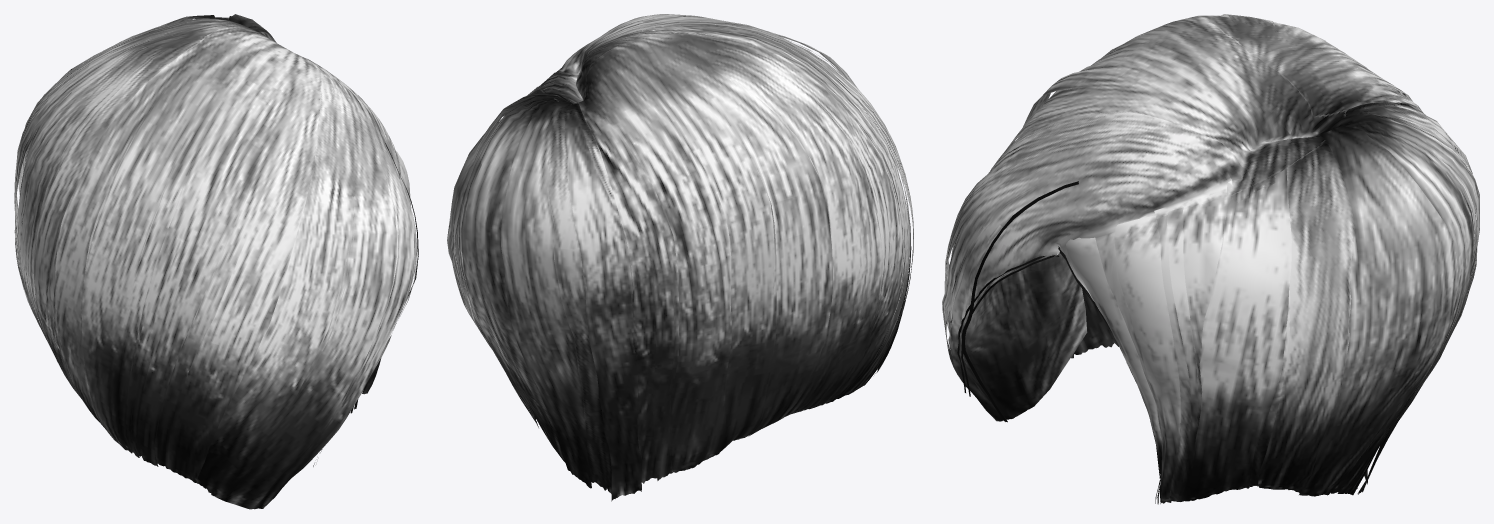
Rendered from hair-female.glb.
The picture shows the model from 3 angles, left to right: view 1: azimuth 30°, elevation 25°; view 2: azimuth 150°, elevation 25°; view 3: azimuth 270°, elevation 25°; orthographic projection. The views are drawn at different scales.
Parts seen in each view (by area): view 1: hair; view 2: hair; view 3: hair.
Boxes of the visible parts, x1,y1,x2,y2 form: hair: (14, 14, 418, 509); hair: (447, 14, 913, 501); hair: (942, 14, 1479, 504).
Bounding box in the file's own units: 0.2139 × 0.2309 × 0.249.
1 material, 1 textured.
